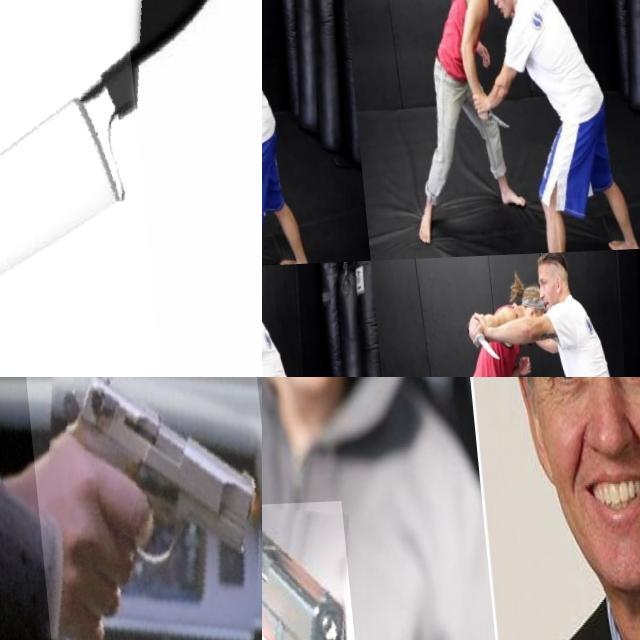-: (0, 0, 234, 377), (456, 322, 493, 368), (262, 118, 286, 177), (470, 106, 509, 138), (262, 329, 280, 377)
gun-knife-thesis - v11 Yolov5 augmented: (20, 377, 262, 640), (262, 502, 349, 640)
